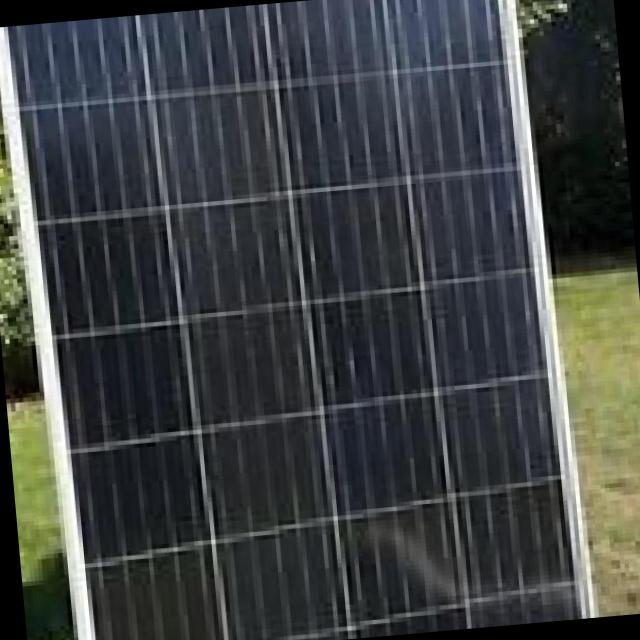no faulty: (10, 0, 582, 640)
